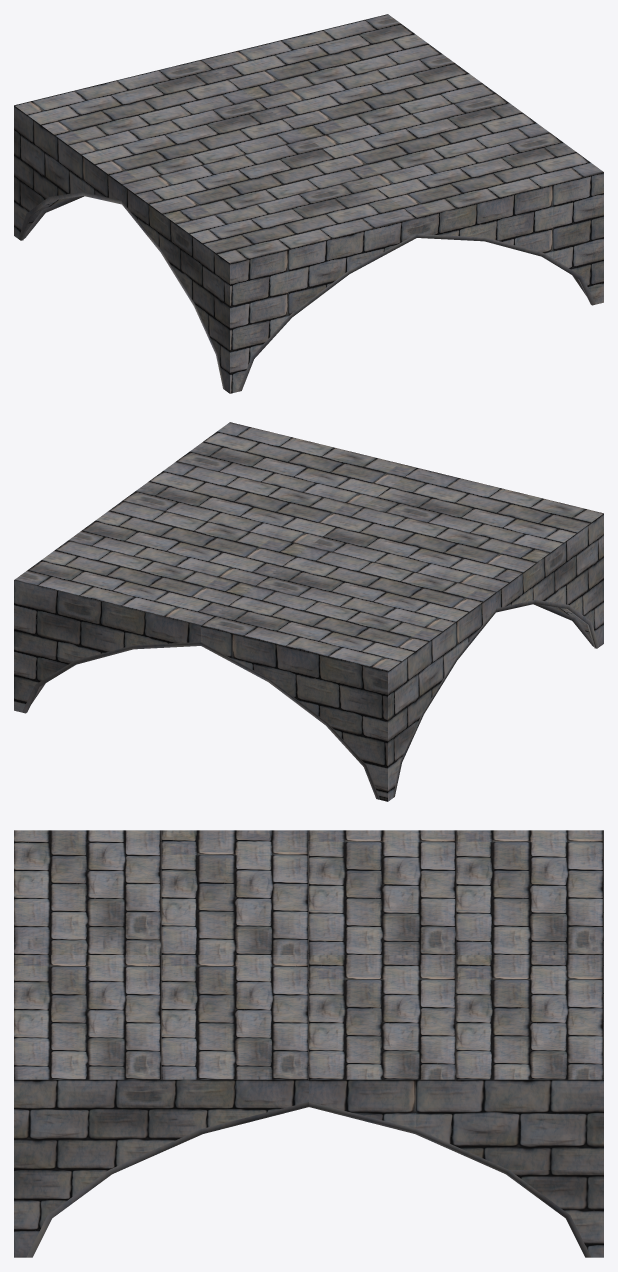
Rendered from vault_cross_junction_01.fbx.
3 views of the same model, one above another, from view 1: azimuth 30°, elevation 25°; view 2: azimuth 150°, elevation 25°; view 3: azimuth 270°, elevation 25° (orthographic). The views are drawn at different scales.
Parts seen in each view (by area): view 1: vault_cross_junction_01; view 2: vault_cross_junction_01; view 3: vault_cross_junction_01.
Part boxes in pixels (x1,y1,x2,y2): vault_cross_junction_01: (14, 14, 603, 393); vault_cross_junction_01: (14, 422, 603, 801); vault_cross_junction_01: (14, 830, 603, 1257).
Bounding box in the file's own units: 2400 × 800 × 2400.
